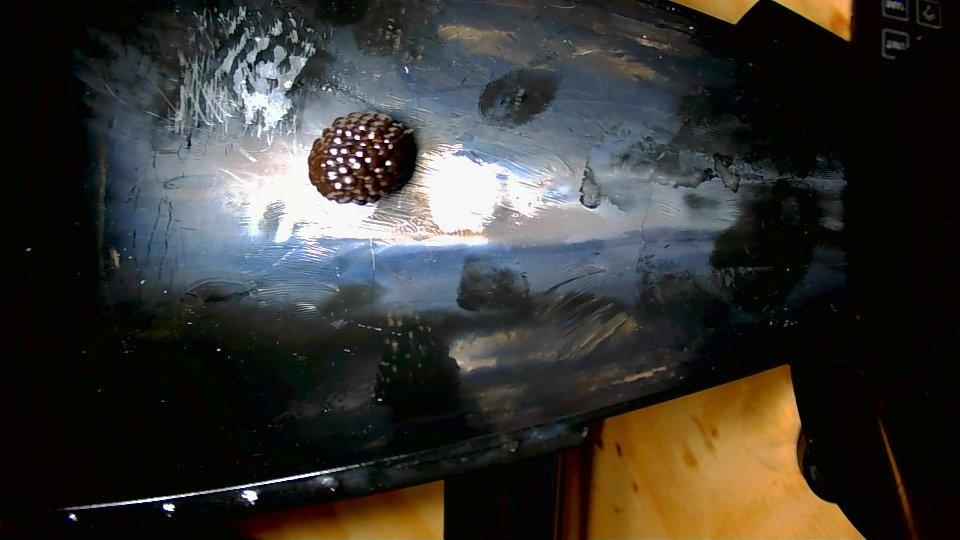berry: (308, 112, 416, 203)
